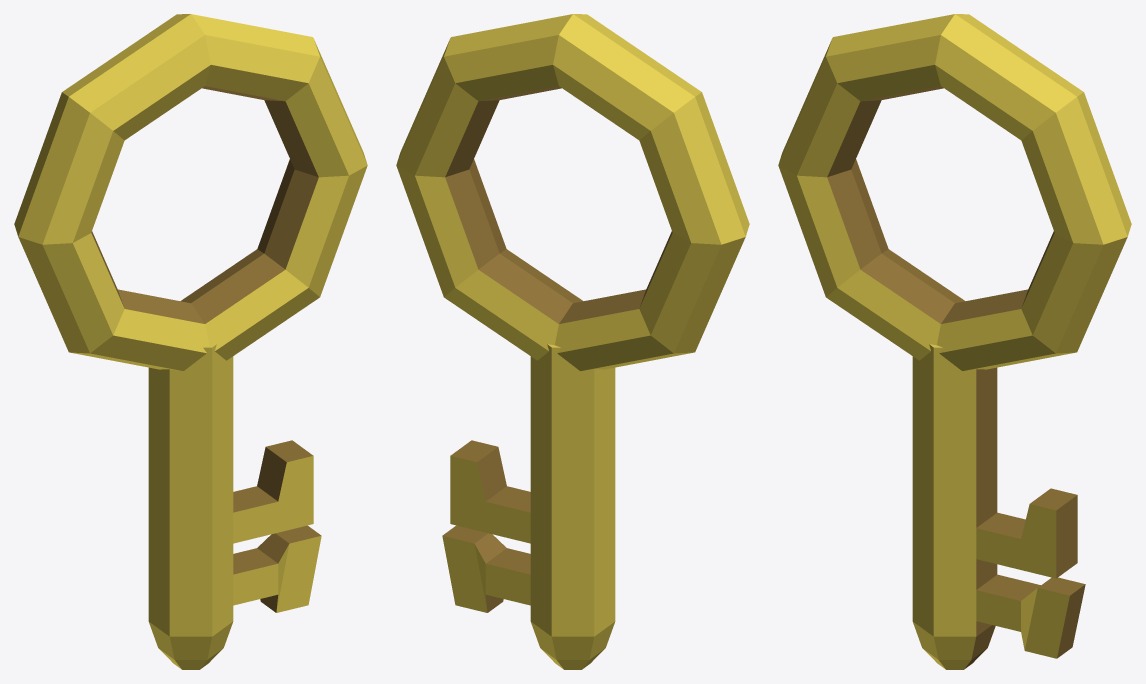
The model's file is Llave.fbx.
3 views of the same model, side by side, from view 1: azimuth 30°, elevation 25°; view 2: azimuth 150°, elevation 25°; view 3: azimuth 330°, elevation 25° (orthographic).
Visible parts, largest first — view 1: Torus; view 2: Torus; view 3: Torus.
Boxes of the visible parts, x1,y1,x2,y2 form: Torus: (14,14,367,669); Torus: (396,14,749,669); Torus: (778,14,1131,669).
Bounding box in the file's own units: 250 × 449 × 53.25.
